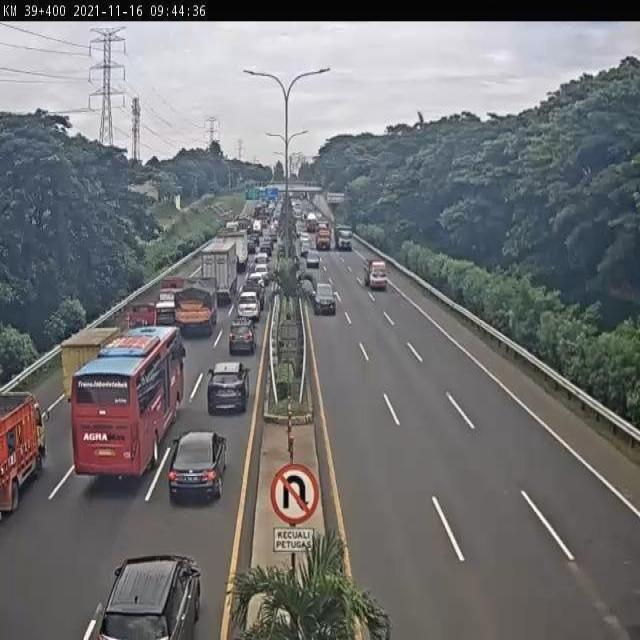Bus: (69, 321, 187, 482)
Car: (90, 553, 202, 639), (167, 430, 228, 503), (206, 360, 250, 412), (228, 320, 256, 355), (313, 282, 337, 316), (364, 256, 388, 289), (237, 290, 261, 322), (334, 224, 354, 252), (245, 272, 266, 293), (252, 264, 270, 284), (253, 250, 269, 269), (306, 250, 320, 268), (260, 240, 274, 256), (299, 241, 313, 257), (246, 236, 256, 255), (299, 231, 310, 245)
Truck: (0, 383, 46, 521), (58, 322, 123, 403), (173, 274, 222, 333), (200, 237, 239, 306), (154, 271, 186, 321), (223, 228, 250, 270), (128, 301, 157, 332), (316, 228, 331, 251), (252, 220, 262, 235)
